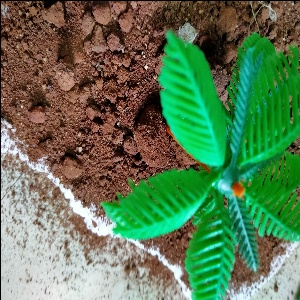plant: (123, 31, 300, 299)
